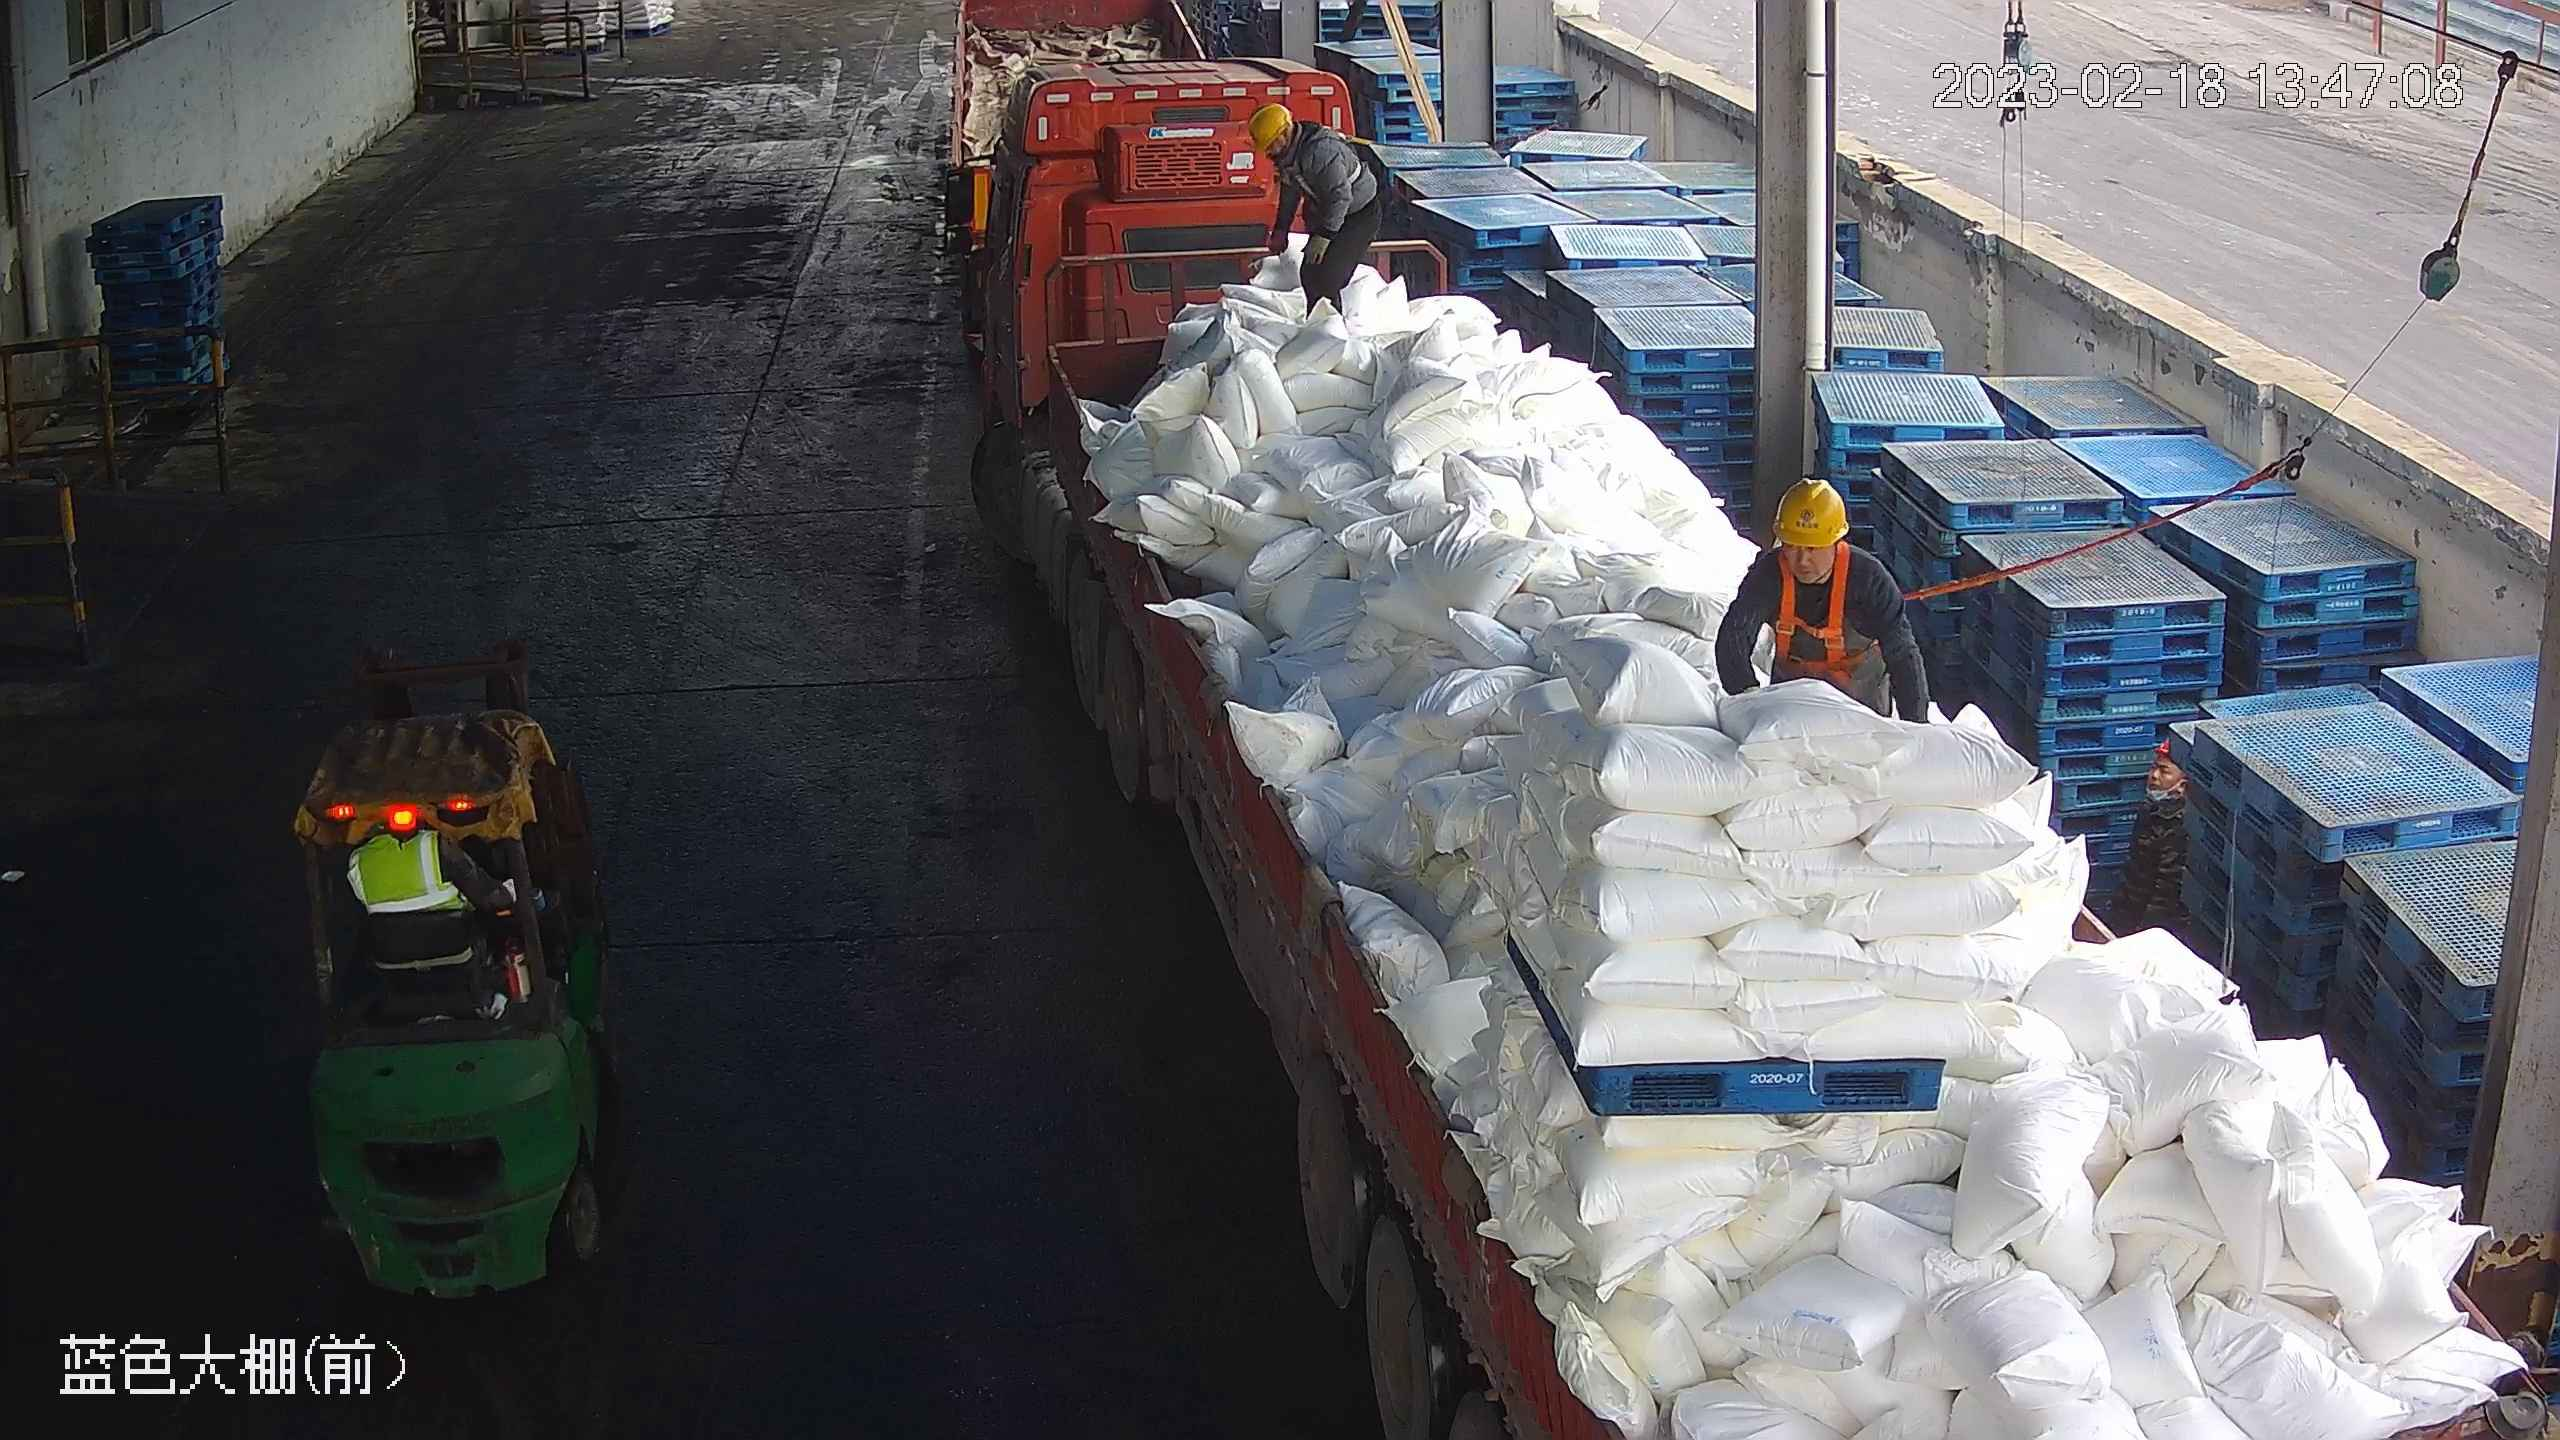belt: (1761, 541, 1922, 686), (1286, 120, 1366, 186)
head: (1731, 473, 1900, 622), (1247, 99, 1351, 187)
helmet: (1772, 473, 1852, 548), (1248, 100, 1293, 152)
people: (1719, 475, 1924, 727), (1244, 97, 1392, 321)
truck: (955, 144, 2554, 1437), (926, 7, 1221, 187)
